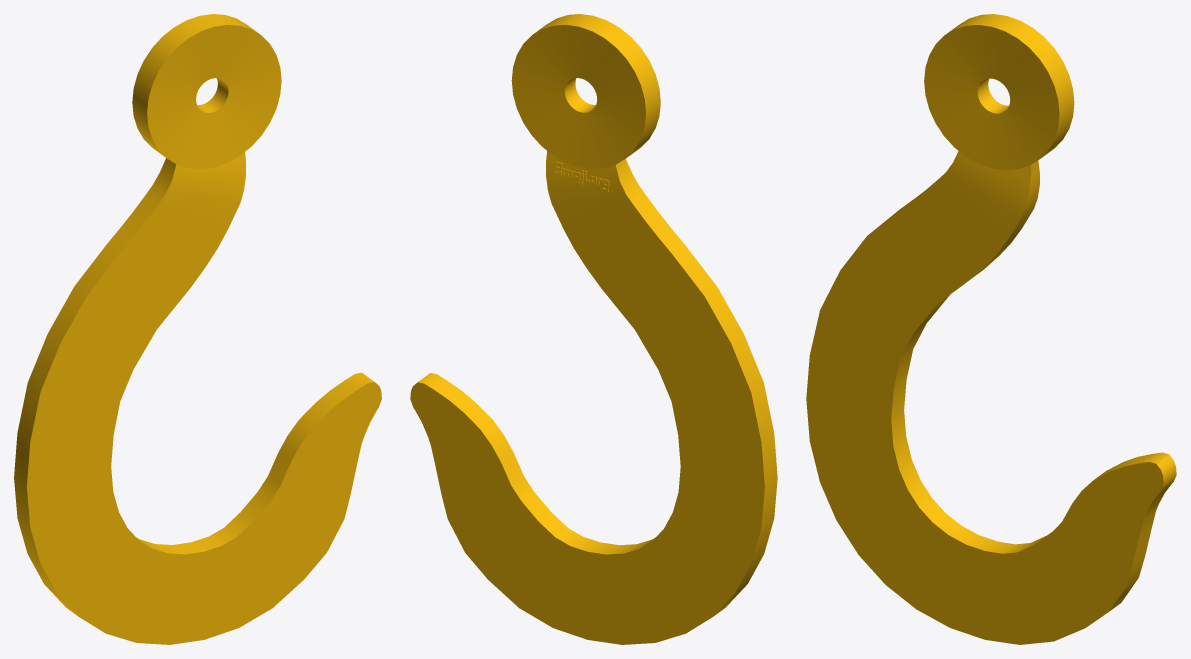
The model's file is hook.fbx.
3 renders of one model, left to right at view 1: azimuth 30°, elevation 25°; view 2: azimuth 150°, elevation 25°; view 3: azimuth 330°, elevation 25°, orthographic.
Visible parts, largest first — view 1: Circle.2592; view 2: Circle.2592; view 3: Circle.2592.
Boxes of the visible parts, left/top/right/bottom form: Circle.2592: left=14, top=14, right=381, bottom=644; Circle.2592: left=410, top=14, right=777, bottom=644; Circle.2592: left=806, top=14, right=1176, bottom=644.
Bounding box in the file's own units: 137 × 226 × 9.98.
1 material, 1 textured.
